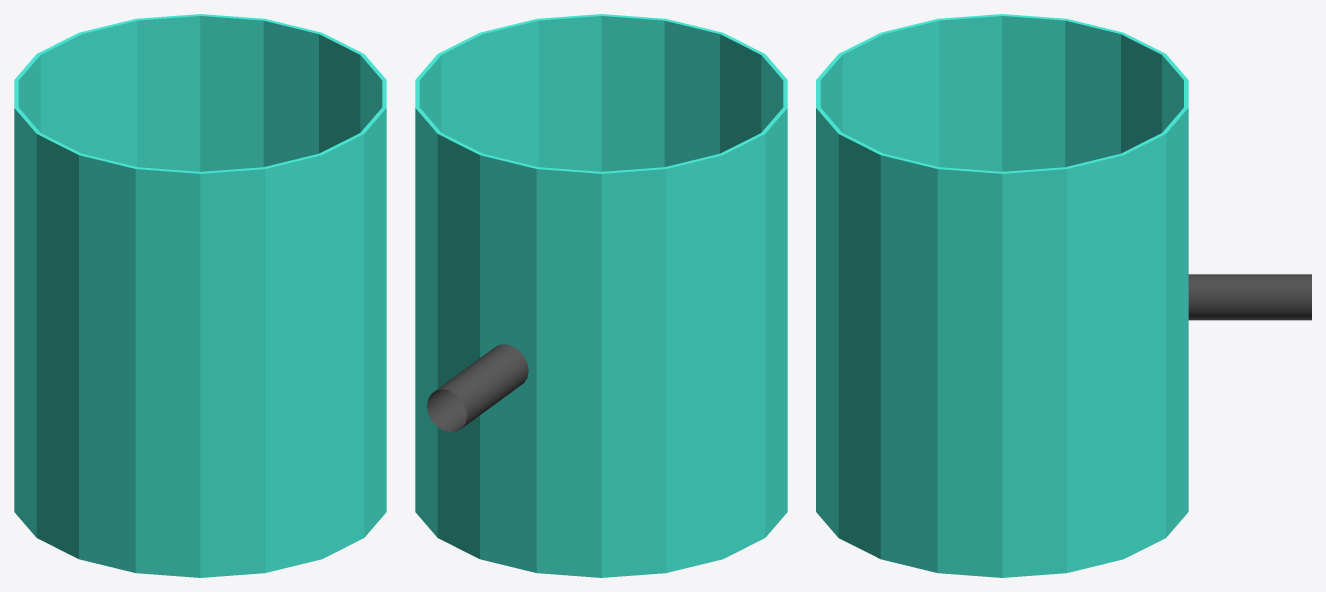
Rendered from Light.FBX.
3 views of the same model, side by side, from view 1: azimuth 30°, elevation 25°; view 2: azimuth 150°, elevation 25°; view 3: azimuth 270°, elevation 25° (orthographic).
Parts seen in each view (by area): view 1: Light; view 2: Light; view 3: Light.
Part boxes in pixels (x1,y1,x2,y2): Light: (14,14,386,577); Light: (415,14,787,577); Light: (816,14,1311,577).
Bounding box in the file's own units: 10.81 × 12.74 × 14.17.
